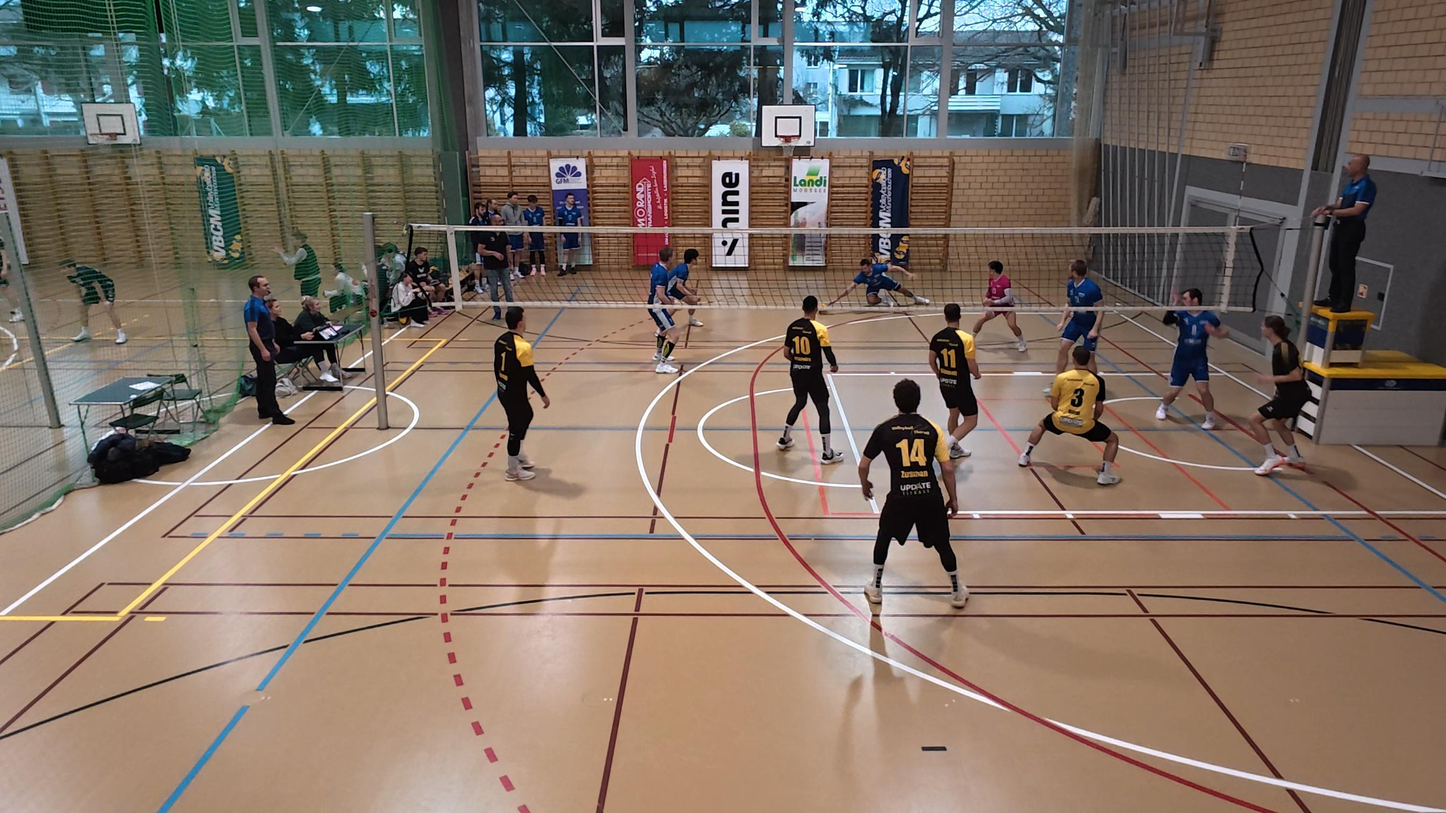difesa: (825, 248, 926, 313)
